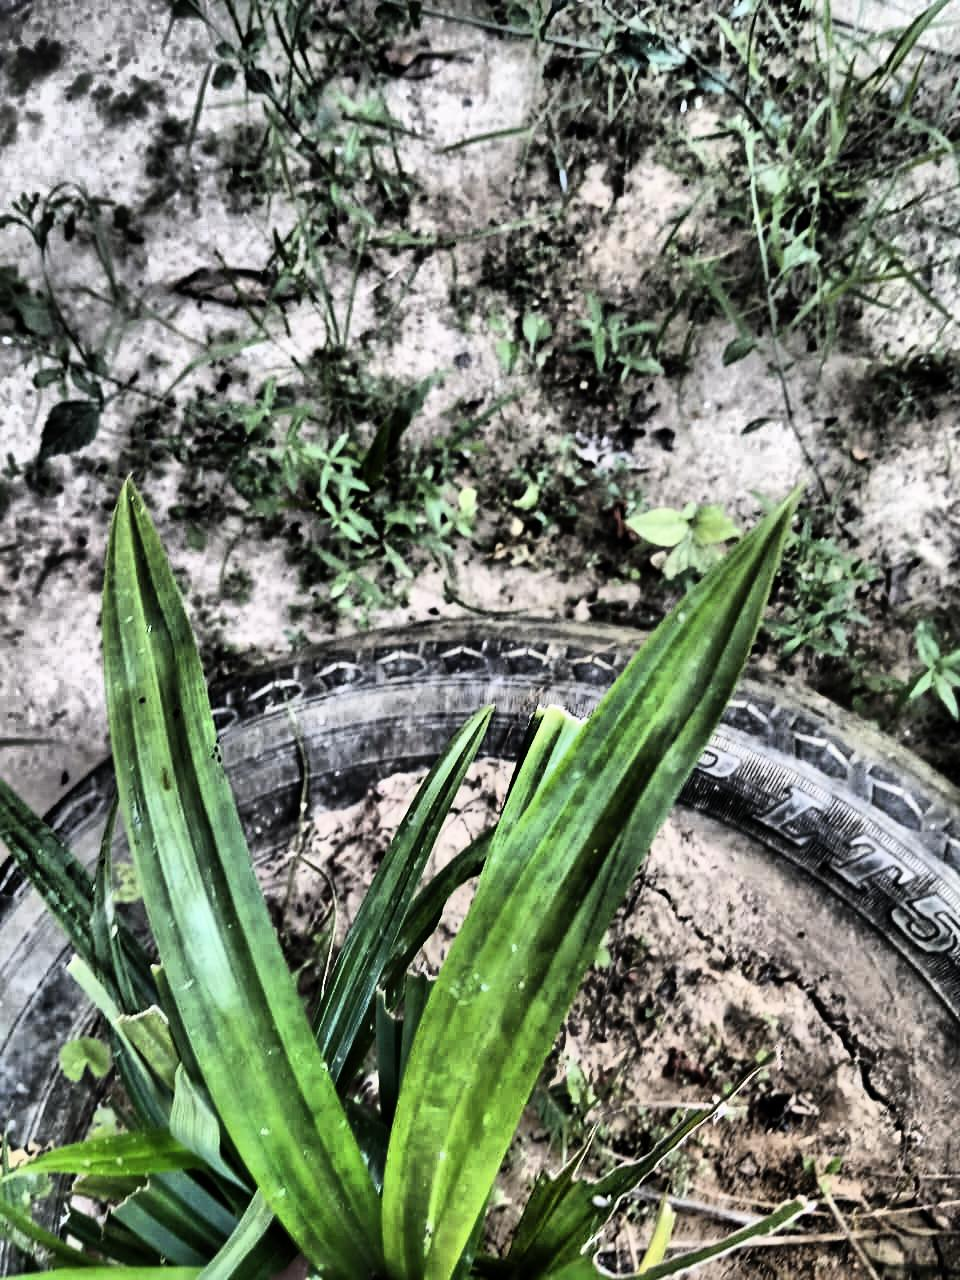daun pandan: (0, 481, 795, 1279)
